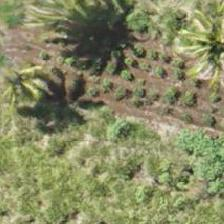coconut_tree: (0, 38, 88, 128), (41, 0, 131, 64), (171, 0, 223, 84)
